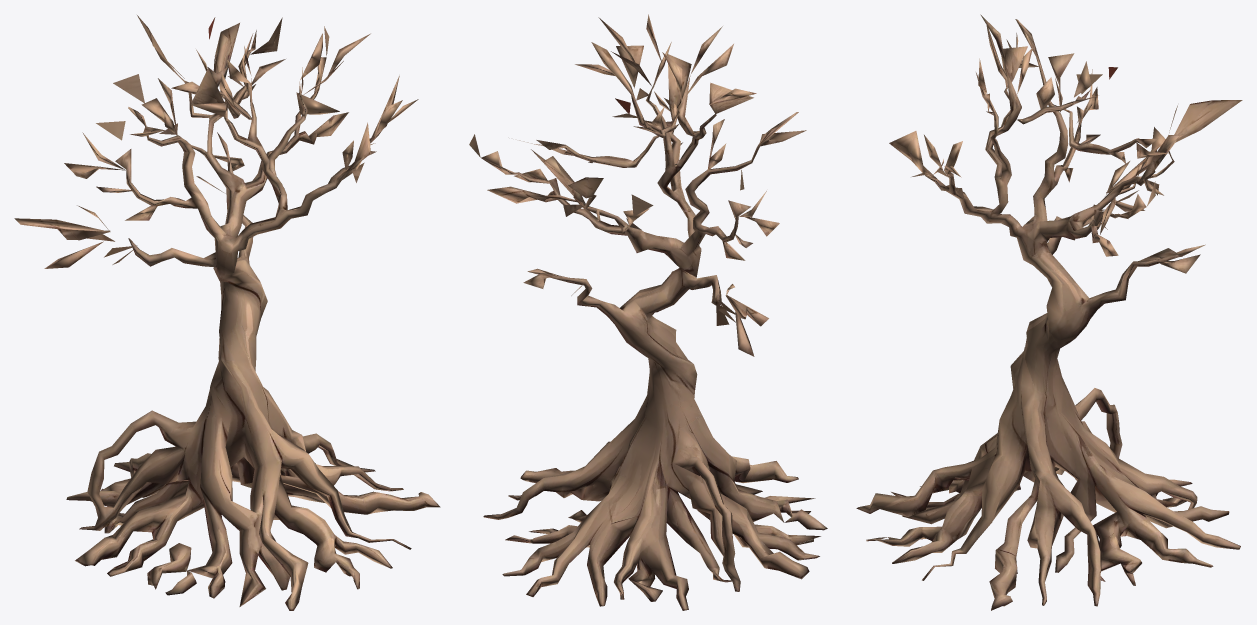
The model's file is deadTree.glb.
3 views of the same model, side by side, from view 1: azimuth 30°, elevation 25°; view 2: azimuth 150°, elevation 25°; view 3: azimuth 270°, elevation 25° (orthographic). The views are drawn at different scales.
Bounding box in the file's own units: 0.6548 × 0.9492 × 0.6616.
Materials: 1 (1 with a texture image).
